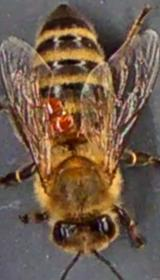varroa_mite: (53, 104, 76, 138), (45, 90, 67, 112)
